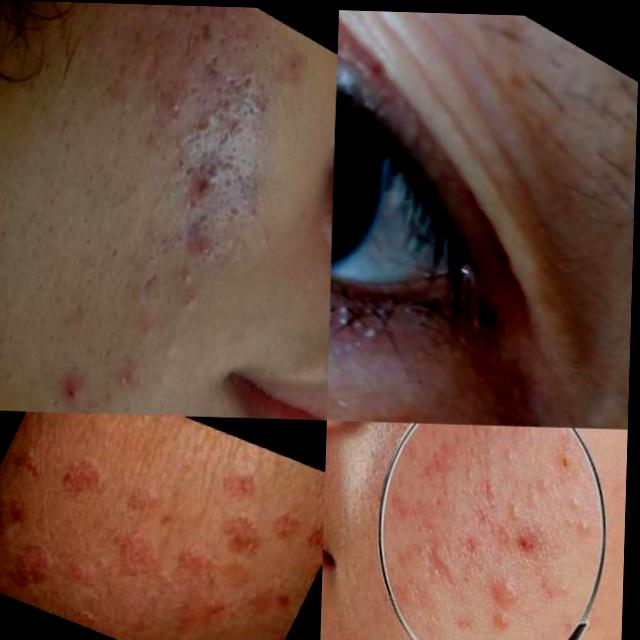8: (52, 359, 93, 412), (486, 599, 525, 640)
blackheads: (180, 148, 235, 219), (209, 103, 257, 168), (418, 547, 466, 606), (133, 34, 175, 101), (474, 474, 507, 529), (191, 12, 222, 57), (517, 527, 552, 566)
dark spot: (170, 280, 210, 333)
